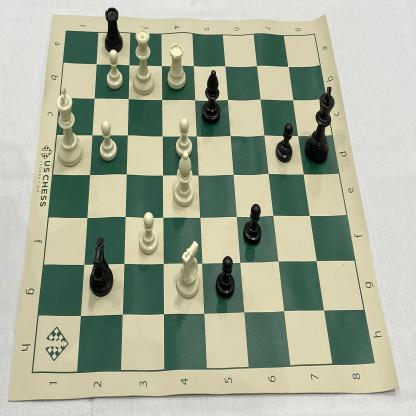black-bishop: (201, 67, 222, 128)
black-king: (303, 83, 337, 167)
black-knight: (87, 235, 119, 302)
black-pawn: (215, 250, 236, 302), (242, 200, 264, 249), (275, 118, 295, 165)
black-rook: (99, 4, 125, 58)
white-bishop: (168, 150, 196, 210)
white-king: (52, 84, 85, 169)
white-knight: (174, 236, 203, 303)
white-pawn: (101, 47, 127, 95), (136, 208, 158, 261), (172, 114, 195, 158), (97, 118, 119, 164)
white-queen: (131, 24, 156, 98)
white-rook: (164, 40, 189, 92)
